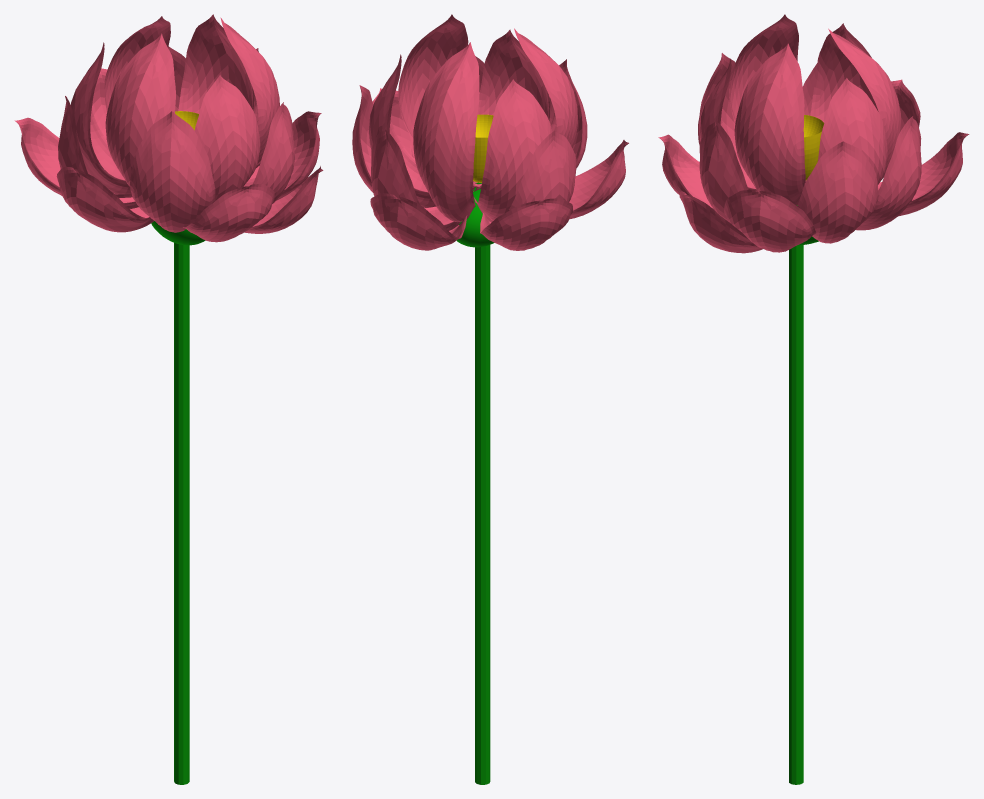
Rendered from Lotus054.fbx.
3 renders of one model, left to right at view 1: azimuth 30°, elevation 25°; view 2: azimuth 150°, elevation 25°; view 3: azimuth 270°, elevation 25°, orthographic.
Visible parts, largest first — view 1: pCylinder1, nurbsToPoly16, nurbsToPoly21, nurbsToPoly18, nurbsToPoly19, nurbsToPoly11, nurbsToPoly20, nurbsToPoly8, nurbsToPoly22, nurbsToPoly13, nurbsToPoly12, nurbsToPoly24 (+5 smaller); view 2: pCylinder1, nurbsToPoly23, nurbsToPoly20, nurbsToPoly22, nurbsToPoly10, nurbsToPoly12, nurbsToPoly18, nurbsToPoly14, nurbsToPoly21, nurbsToPoly11, nurbsToPoly17, nurbsToPoly19 (+5 smaller); view 3: nurbsToPoly22, pCylinder1, nurbsToPoly15, nurbsToPoly9, nurbsToPoly19, nurbsToPoly17, nurbsToPoly13, nurbsToPoly21, nurbsToPoly20, nurbsToPoly23, nurbsToPoly10, nurbsToPoly24 (+5 smaller).
Boxes of the visible parts, box(x1,y1,x2,y2) form: pCylinder1: box(174, 242, 189, 784); nurbsToPoly16: box(130, 111, 215, 232); nurbsToPoly21: box(105, 33, 175, 186); nurbsToPoly18: box(194, 75, 260, 201); nurbsToPoly19: box(178, 14, 254, 113); nurbsToPoly11: box(56, 166, 153, 232); nurbsToPoly20: box(71, 42, 131, 193); nurbsToPoly8: box(183, 184, 274, 242); nurbsToPoly22: box(220, 17, 279, 163); nurbsToPoly13: box(243, 102, 294, 203); nurbsToPoly12: box(14, 117, 132, 198); nurbsToPoly24: box(244, 166, 323, 233); pCylinder1: box(475, 245, 490, 784); nurbsToPoly23: box(413, 42, 479, 221); nurbsToPoly20: box(474, 79, 551, 222); nurbsToPoly22: box(398, 14, 475, 190); nurbsToPoly10: box(370, 193, 467, 250); nurbsToPoly12: box(480, 198, 572, 250); nurbsToPoly18: box(473, 29, 549, 191); nurbsToPoly14: box(488, 130, 576, 221); nurbsToPoly21: box(474, 28, 577, 189); nurbsToPoly11: box(569, 140, 628, 219); nurbsToPoly17: box(371, 129, 460, 230); nurbsToPoly19: box(368, 54, 435, 207); nurbsToPoly22: box(734, 43, 805, 205); pCylinder1: box(789, 245, 803, 784); nurbsToPoly15: box(797, 141, 878, 243); nurbsToPoly9: box(724, 190, 816, 252); nurbsToPoly19: box(817, 78, 887, 184); nurbsToPoly17: box(855, 116, 921, 230); nurbsToPoly13: box(699, 120, 748, 221); nurbsToPoly21: box(729, 14, 798, 122); nurbsToPoly20: box(805, 23, 878, 181); nurbsToPoly23: box(828, 28, 901, 181); nurbsToPoly10: box(878, 132, 969, 216); nurbsToPoly24: box(679, 191, 762, 253).
Bounding box in the file's own units: 18.47 × 53.61 × 20.02.
